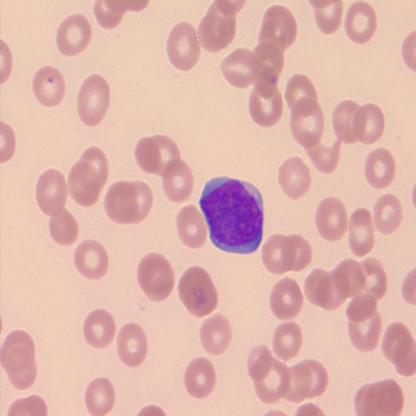Blast: (195, 174, 265, 256)
